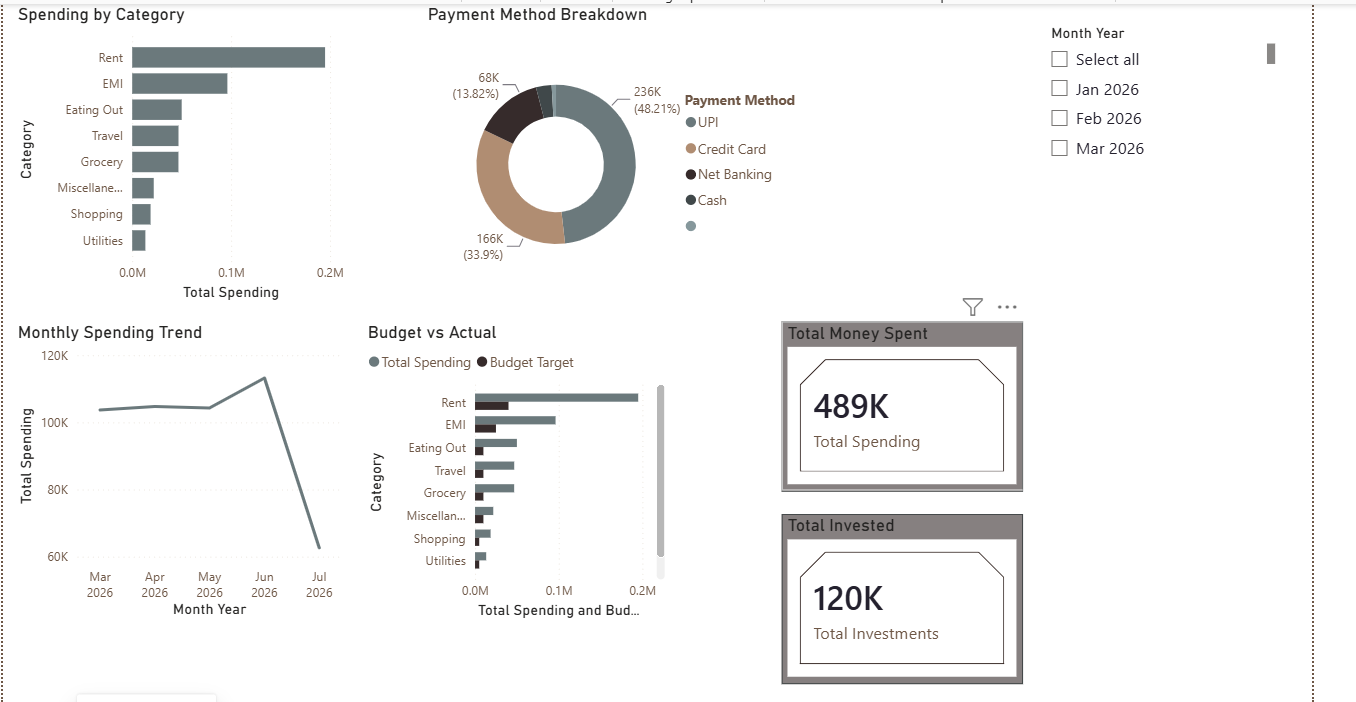

Layout of this report page (visuals, bound fields, positions):
{"tool":"powerbi","page":{"name":"Expense Overview","canvas":[1280,720],"ordinal":0},"visuals":[{"type":"clusteredBarChart","title":"Spending by Category","fields":{"Category":["Expenses.Category"],"Y":["Expenses.Total Spending"]},"box":[9.6,0,329.3,295],"z":0},{"type":"lineChart","title":"Monthly Spending Trend","fields":{"Category":["DateTable.Month Year"],"Y":["Expenses.Total Spending"]},"box":[9.6,310.1,329.3,295],"z":1000},{"type":"cardVisual","title":"Total Money Spent","fields":{"Data":["Expenses.Total Spending"]},"box":[761.6,310.1,236,166],"z":2000},{"type":"clusteredBarChart","title":"Budget vs Actual","fields":{"Category":["Expenses.Category"],"Y":["Expenses.Total Spending","Budget.Buget Target"]},"box":[352.7,310.1,300.5,295],"z":3000},{"type":"slicer","fields":{"Values":["DateTable.Month Year"]},"box":[1012.7,15.1,237.4,148.2],"z":4000},{"type":"cardVisual","title":"Total Invested","fields":{"Data":["Expenses.Total Investments"]},"box":[761.6,499.5,236,166],"z":5000},{"type":"donutChart","title":"Payment Method Breakdown","fields":{"Category":["Expenses.Payment Method"],"Y":["Expenses.Total Spending"]},"box":[410.3,0,378.7,295],"z":6000}]}

Visuals, with their boxes on the page's 1280x720 design canvas (x1, y1, x2, y2). These are canvas units, not pixel positions in the 1356x702 screenshot, which may show the page scaled, cropped or inside an application window:
"Spending by Category" clusteredBarChart: rect(10, 0, 339, 295)
"Monthly Spending Trend" lineChart: rect(10, 310, 339, 605)
"Total Money Spent" cardVisual: rect(762, 310, 998, 476)
"Budget vs Actual" clusteredBarChart: rect(353, 310, 653, 605)
slicer - DateTable.Month Year: rect(1013, 15, 1250, 163)
"Total Invested" cardVisual: rect(762, 500, 998, 666)
"Payment Method Breakdown" donutChart: rect(410, 0, 789, 295)
